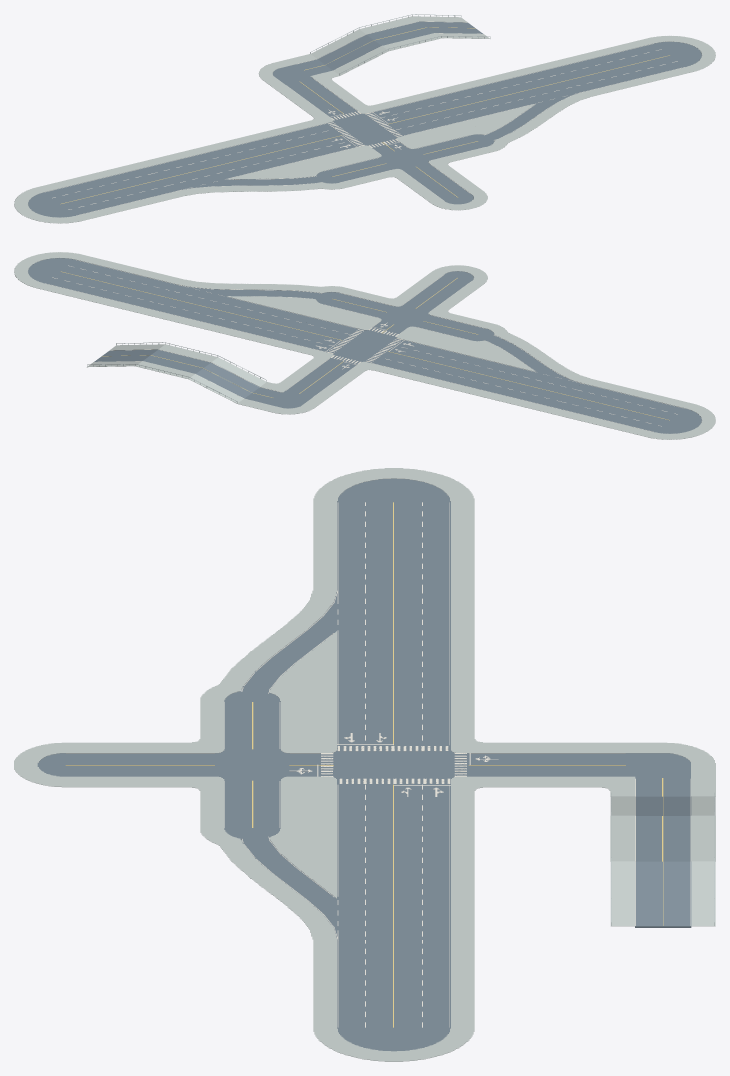
Rendered from network-w68-s59.glb.
The picture shows the model from 3 angles, top to bottom: view 1: azimuth 30°, elevation 25°; view 2: azimuth 150°, elevation 25°; view 3: azimuth 270°, elevation 25°; orthographic projection. The views are drawn at different scales.
Visible parts, largest first — view 1: Road_surface, Sidewalks, Lane_markings, Ramp_surface, Crosswalks, Bridge_railings; view 2: Road_surface, Sidewalks, Lane_markings, Ramp_surface, Crosswalks, Bridge_railings; view 3: Road_surface, Sidewalks, Ramp_surface, Lane_markings, Crosswalks.
Part boxes in pixels (x1,y1,x2,y2): Road_surface: [28, 22, 701, 217]; Sidewalks: [14, 16, 715, 223]; Lane_markings: [45, 21, 684, 215]; Ramp_surface: [317, 21, 482, 70]; Crosswalks: [328, 111, 402, 147]; Bridge_railings: [310, 14, 490, 75]; Road_surface: [28, 258, 701, 433]; Sidewalks: [14, 252, 715, 439]; Lane_markings: [45, 260, 684, 431]; Ramp_surface: [94, 349, 259, 398]; Crosswalks: [327, 327, 402, 364]; Bridge_railings: [87, 342, 266, 403]; Road_surface: [37, 478, 690, 1051]; Sidewalks: [14, 468, 715, 1061]; Ramp_surface: [635, 796, 691, 927]; Lane_markings: [65, 502, 690, 1027]; Crosswalks: [321, 746, 466, 783].
Size of the model in its own units: 339 by 7.51 by 170.
